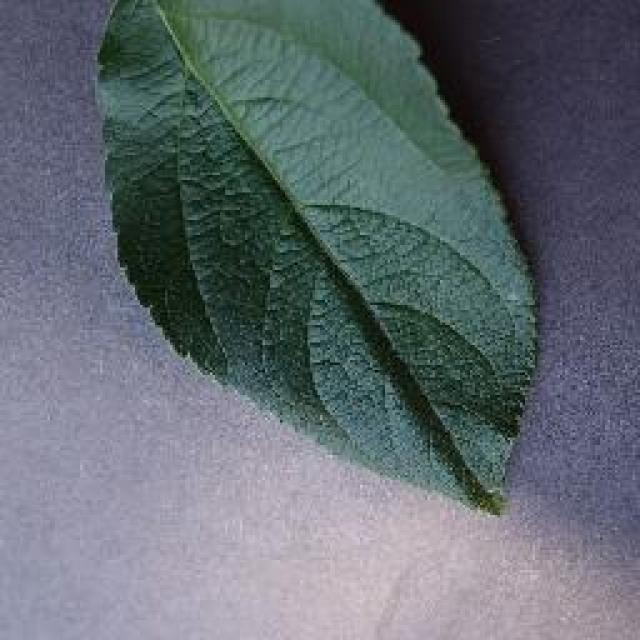apple healthy: (92, 0, 542, 515)
